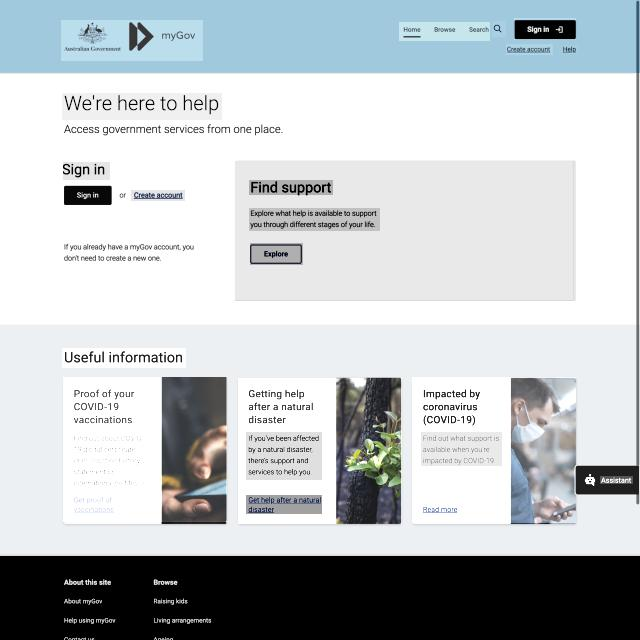CheckBox: (574, 465, 640, 494), (246, 495, 322, 514), (514, 18, 576, 40), (252, 243, 305, 265), (62, 185, 112, 206), (72, 494, 119, 516), (131, 190, 185, 201), (506, 44, 553, 55), (421, 505, 459, 514), (562, 45, 578, 54)
Input field: (72, 433, 151, 488), (246, 432, 322, 480), (61, 240, 196, 266), (63, 122, 284, 136), (251, 208, 382, 231), (421, 432, 502, 466), (246, 388, 314, 426), (420, 386, 482, 426), (72, 388, 139, 425)
Spinner: (235, 161, 578, 301), (63, 378, 227, 524), (238, 378, 402, 524), (412, 377, 576, 523)
accordion: (62, 223, 204, 230)
badge: (0, 554, 640, 640)
bag: (0, 0, 635, 74)
breadcrumbs: (62, 348, 186, 368), (251, 180, 335, 195), (64, 162, 112, 180)
carousel: (492, 21, 506, 37), (585, 474, 597, 488)
data feed: (600, 476, 633, 484)
date picker: (61, 20, 203, 61)
decoration: (399, 22, 490, 41)
image: (62, 94, 222, 122)
